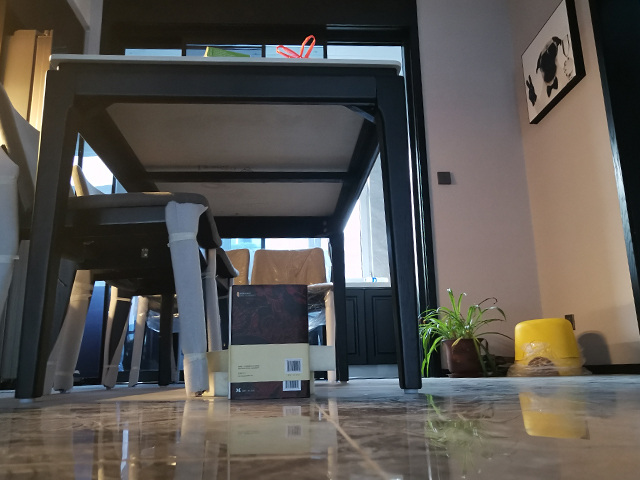cabinet: (344, 281, 404, 381)
stool: (1, 84, 240, 400), (248, 245, 338, 382), (512, 316, 584, 379)
table: (12, 51, 424, 397)
